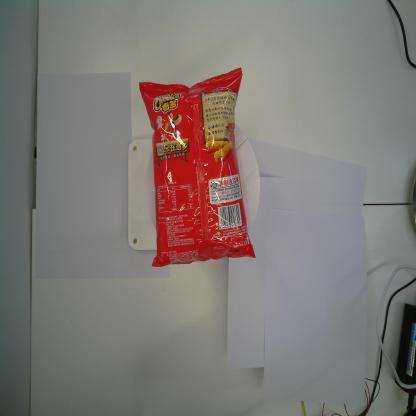Puffed Food: (137, 66, 257, 269)
